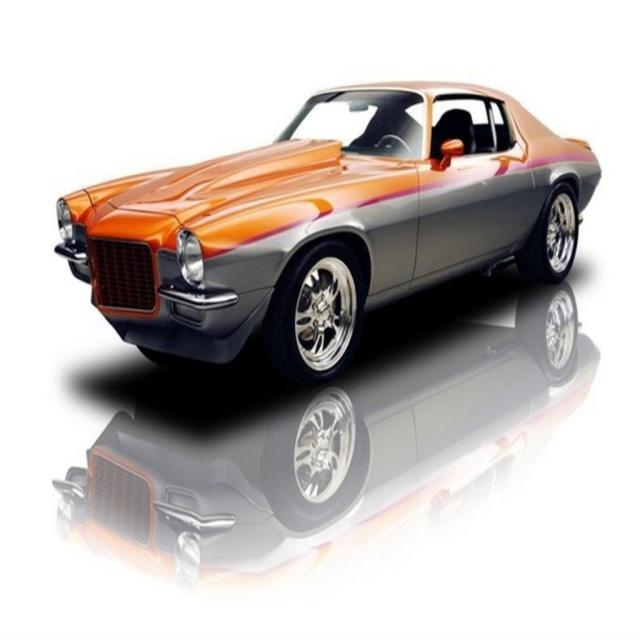car: (41, 76, 600, 376)
